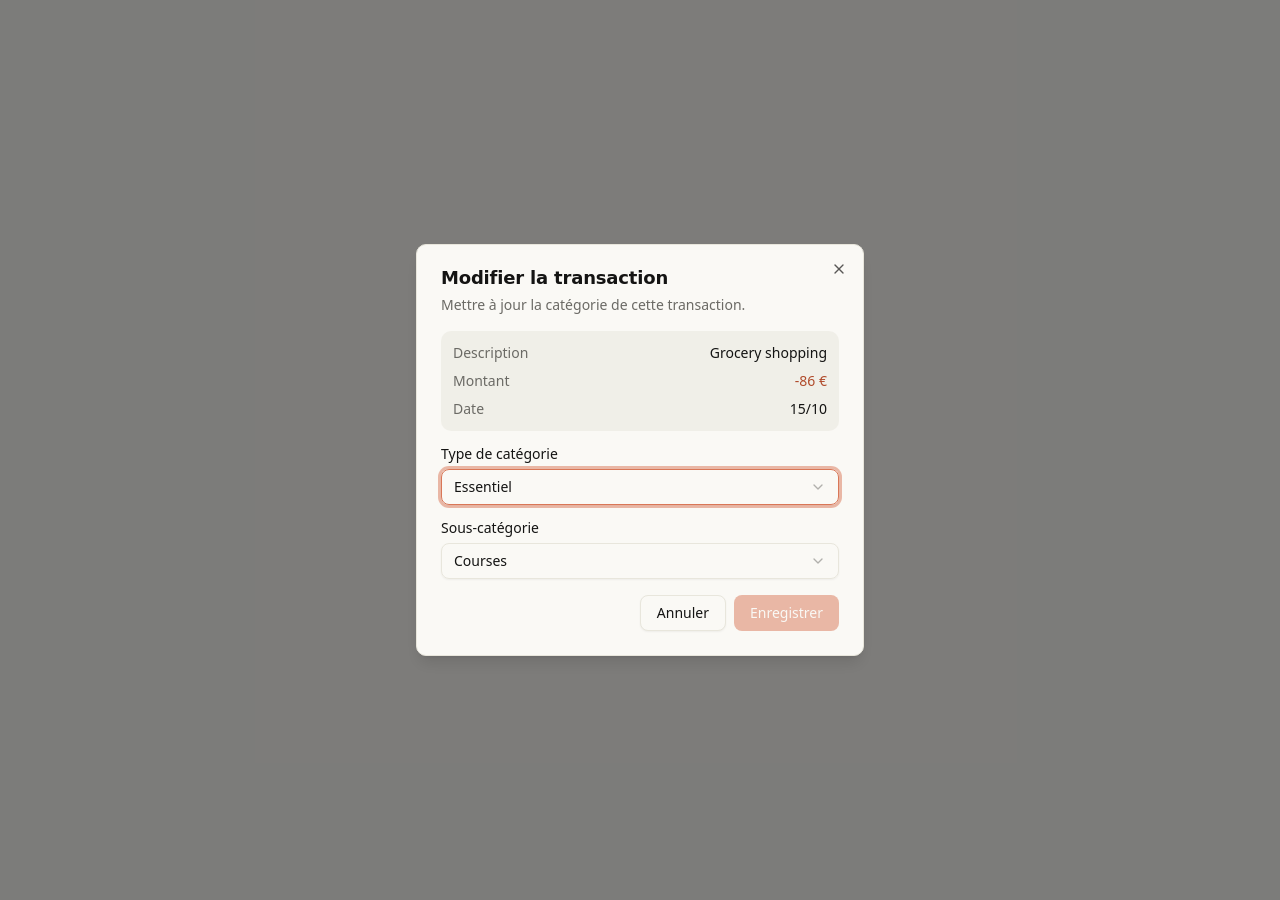
Scenario: TransactionEditModal › Type Change Updates Subcategory › hides subcategory select when EXCLUDED type is selected
This screenshot has width=1280, height=900.
What coordinates should you click on to do the following:
click the dropdown named "Type de catégorie"
I would click on:
 (483, 486)
Its box is [441,469,839,505].
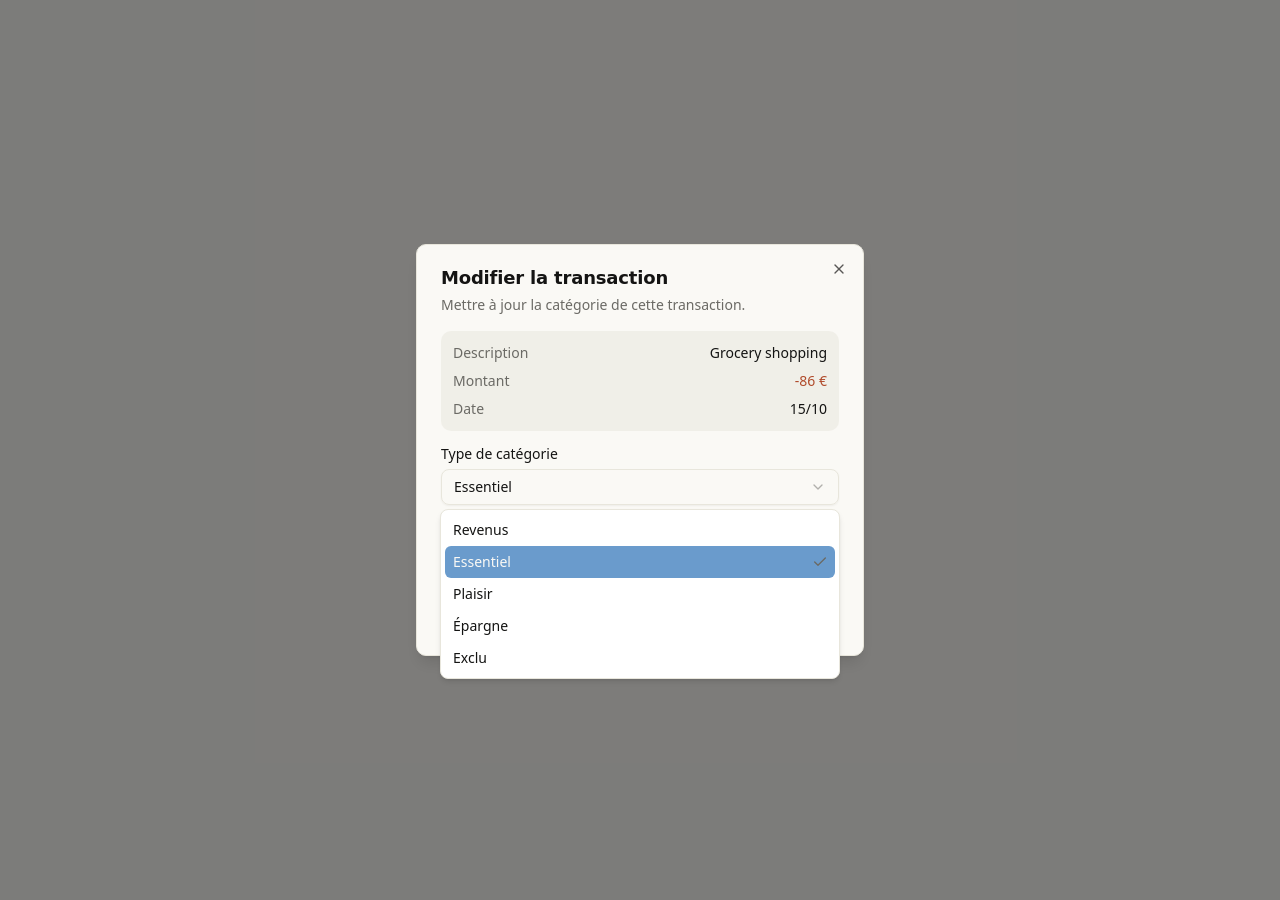
What coordinates should you click on to do the following:
click the option "Exclu"
I would click on:
 (470, 658)
Its box is [453,648,487,667].
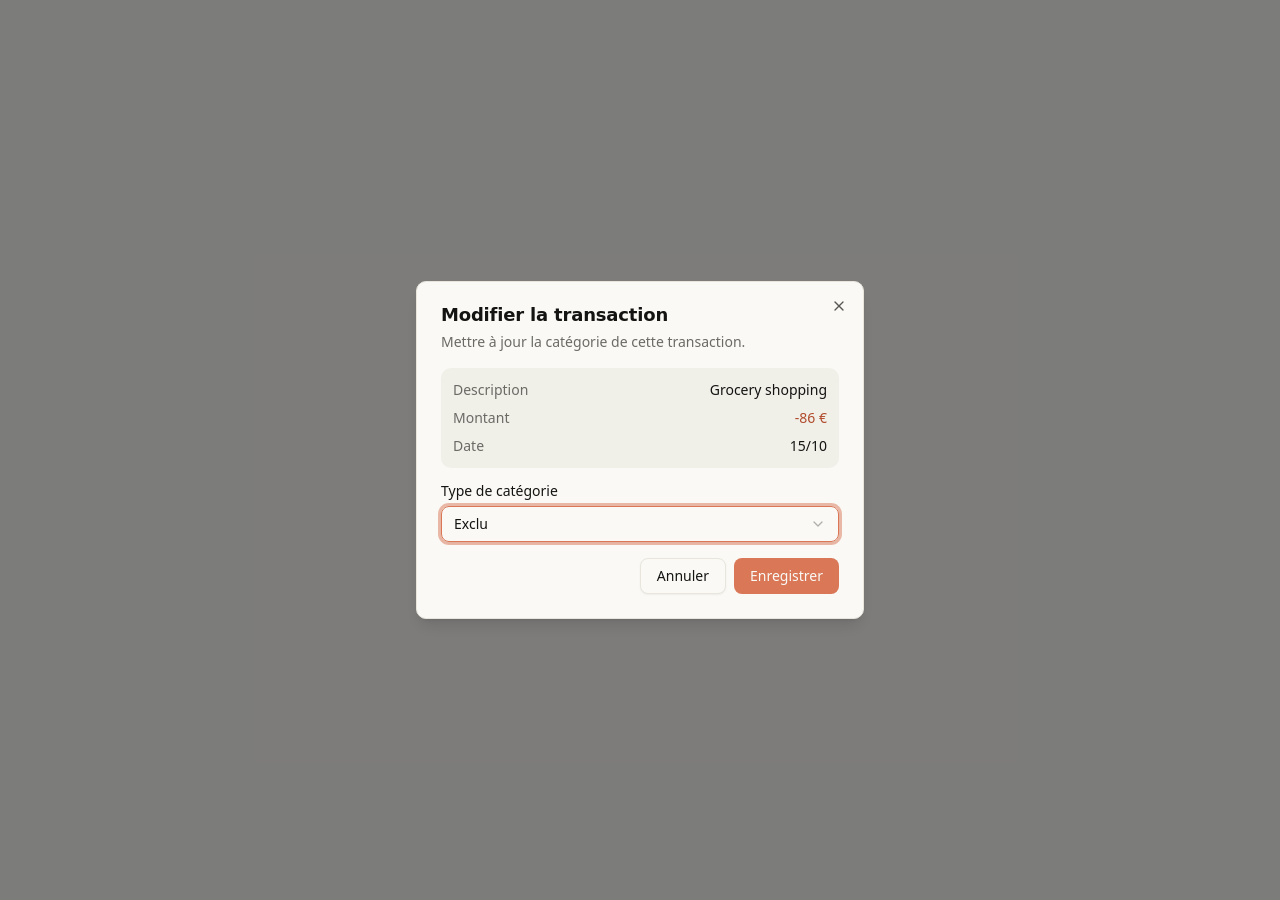
Expected: the label "Sous-catégorie" is gone
